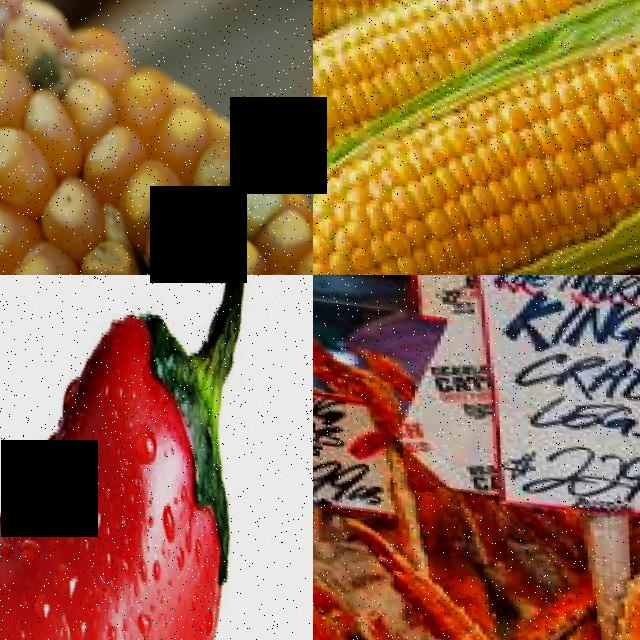chilli: (0, 275, 250, 640)
corn: (313, 61, 570, 275), (0, 0, 147, 275), (329, 0, 567, 92), (552, 0, 640, 238)
crab: (313, 530, 541, 640)
